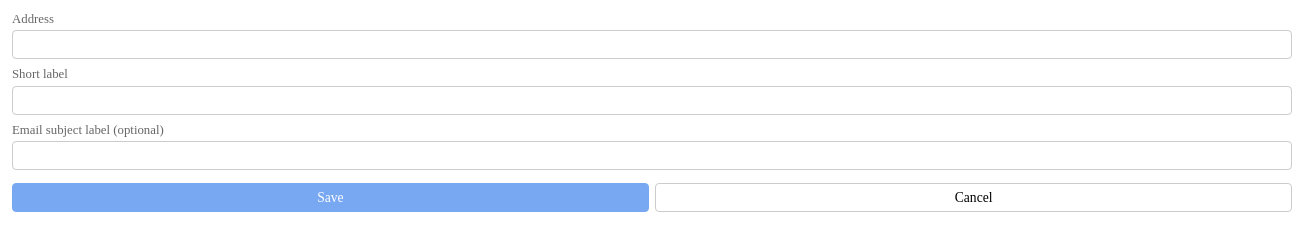
Test: DestinationForm › Save is disabled until address and shortLabel are filled, for email
expect the button "Save" is disabled: met, box left=12, top=183, right=649, bottom=212
In the field labelled "Address": (652,45) left=12, top=30, right=1292, bottom=59, type "to@example.com"
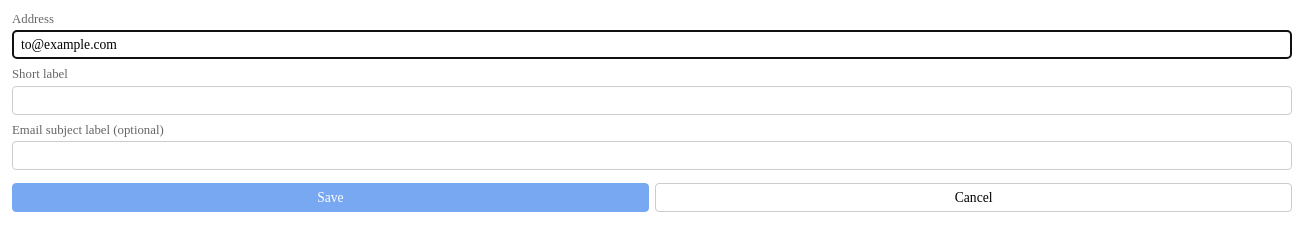
expect the button "Save" is disabled: met, box left=12, top=183, right=649, bottom=212
In the field labelled "Short label": (652,100) left=12, top=86, right=1292, bottom=115, type "Weekly Notes"
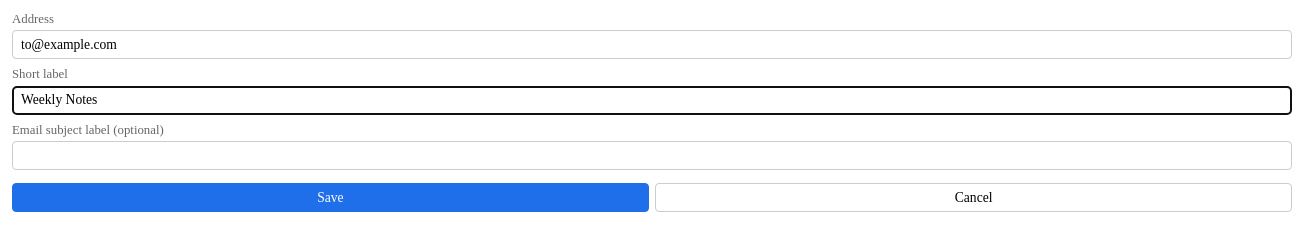
expect the button "Save" is enabled: met, box left=12, top=183, right=649, bottom=212
